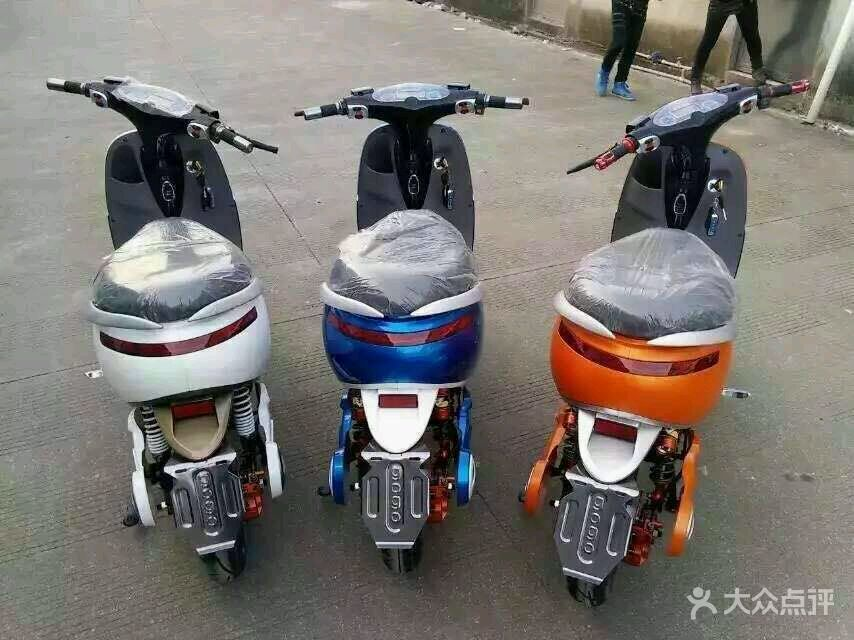电动车: (24, 45, 313, 600), (527, 38, 807, 600), (297, 52, 520, 584)
